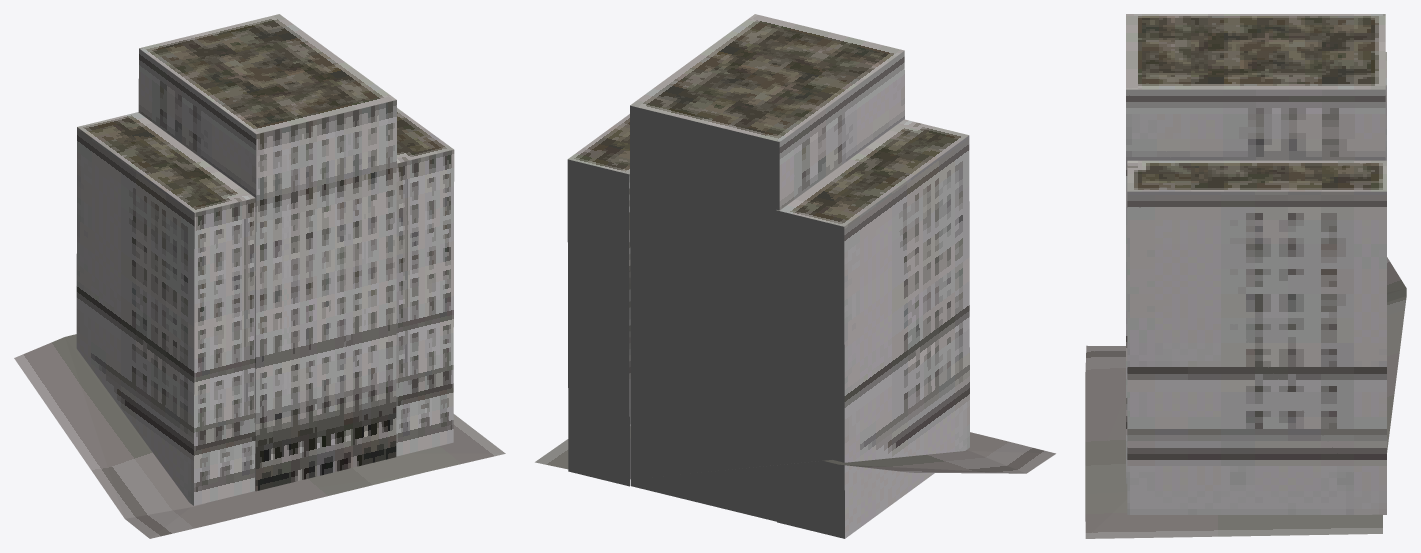
The model's file is lodelbits_sfe07.obj.
3 views of the same model, side by side, from view 1: azimuth 30°, elevation 25°; view 2: azimuth 150°, elevation 25°; view 3: azimuth 270°, elevation 25° (orthographic). The views are drawn at different scales.
Parts seen in each view (by area): view 1: LODelbits_Sfe07; view 2: LODelbits_Sfe07; view 3: LODelbits_Sfe07.
Boxes of the visible parts, left/top/right/bottom form: LODelbits_Sfe07: left=14, top=14, right=505, bottom=538; LODelbits_Sfe07: left=535, top=14, right=1055, bottom=538; LODelbits_Sfe07: left=1085, top=14, right=1406, bottom=538.
Bounding box in the file's own units: 73.79 × 71.84 × 52.28.
5 materials, 4 textured.
